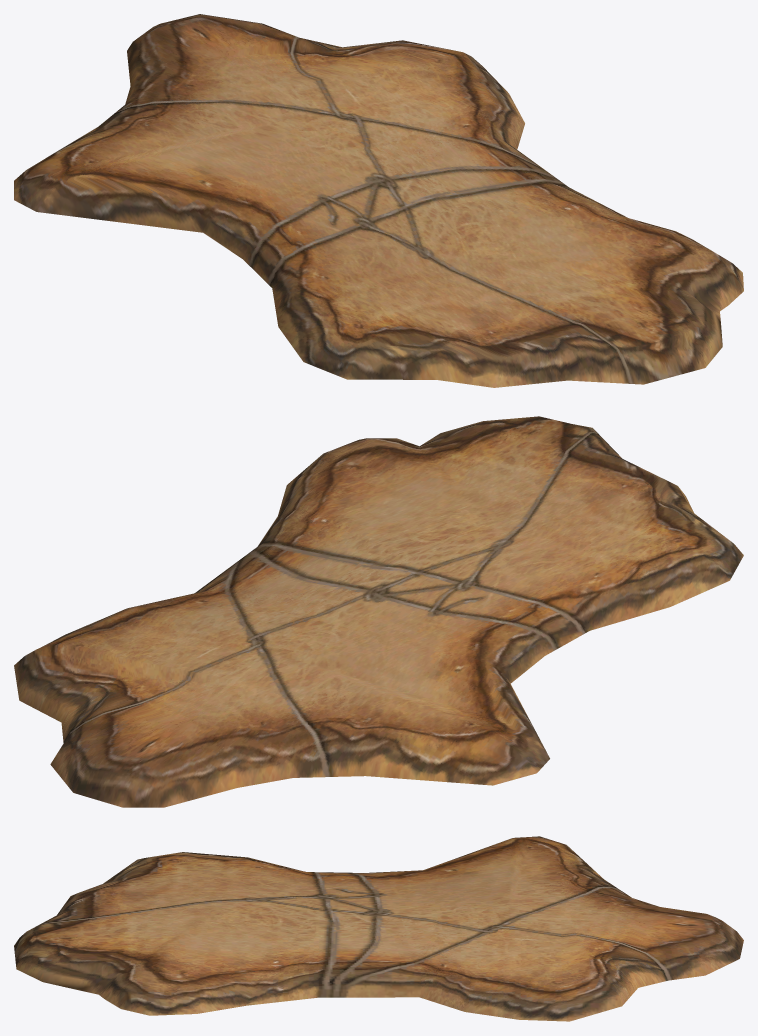
The model's file is con_gen_organic_hide_leather_l1.fbx.
3 views of the same model, one above another, from view 1: azimuth 30°, elevation 25°; view 2: azimuth 150°, elevation 25°; view 3: azimuth 270°, elevation 25° (orthographic). The views are drawn at different scales.
Parts seen in each view (by area): view 1: mesh_node; view 2: mesh_node; view 3: mesh_node.
Boxes of the visible parts, x1,y1,x2,y2 form: mesh_node: (14, 14, 743, 387); mesh_node: (14, 416, 743, 807); mesh_node: (14, 836, 743, 1021).
Size of the model in its own units: 1.16 by 0.0806 by 1.98.
Materials: 1 (1 with a texture image).
